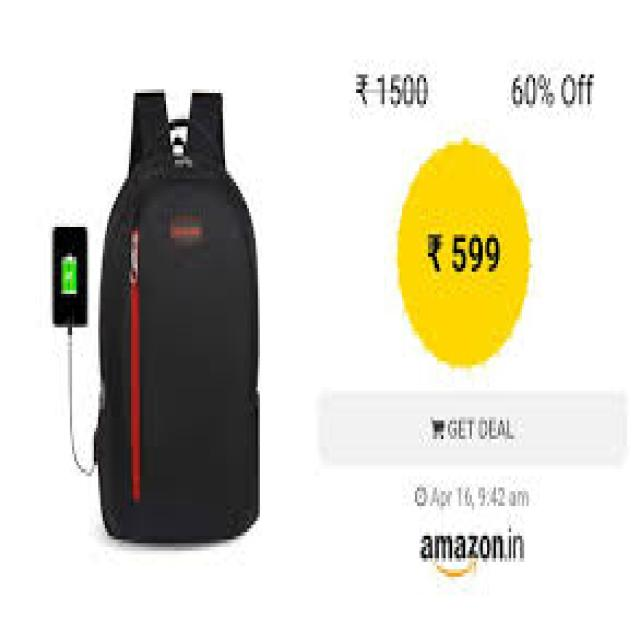backpack: (93, 87, 261, 544)
